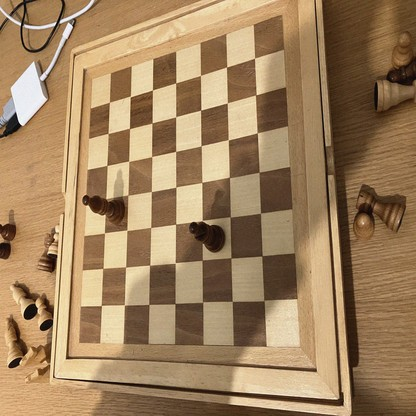bishop_black: (82, 195, 125, 224), (189, 222, 224, 252)
bishop_white: (4, 317, 23, 369)
knight_white: (20, 346, 49, 367), (24, 368, 52, 384)
pawn_white: (393, 33, 411, 65), (354, 212, 375, 238), (36, 297, 52, 330), (49, 225, 59, 253)
queen_white: (11, 284, 35, 321)
rock_black: (357, 189, 404, 234), (38, 234, 55, 272)
